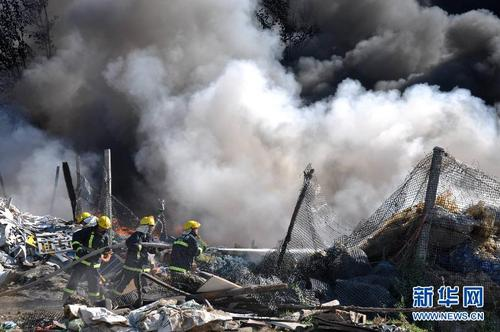smoke: (52, 5, 496, 201)
